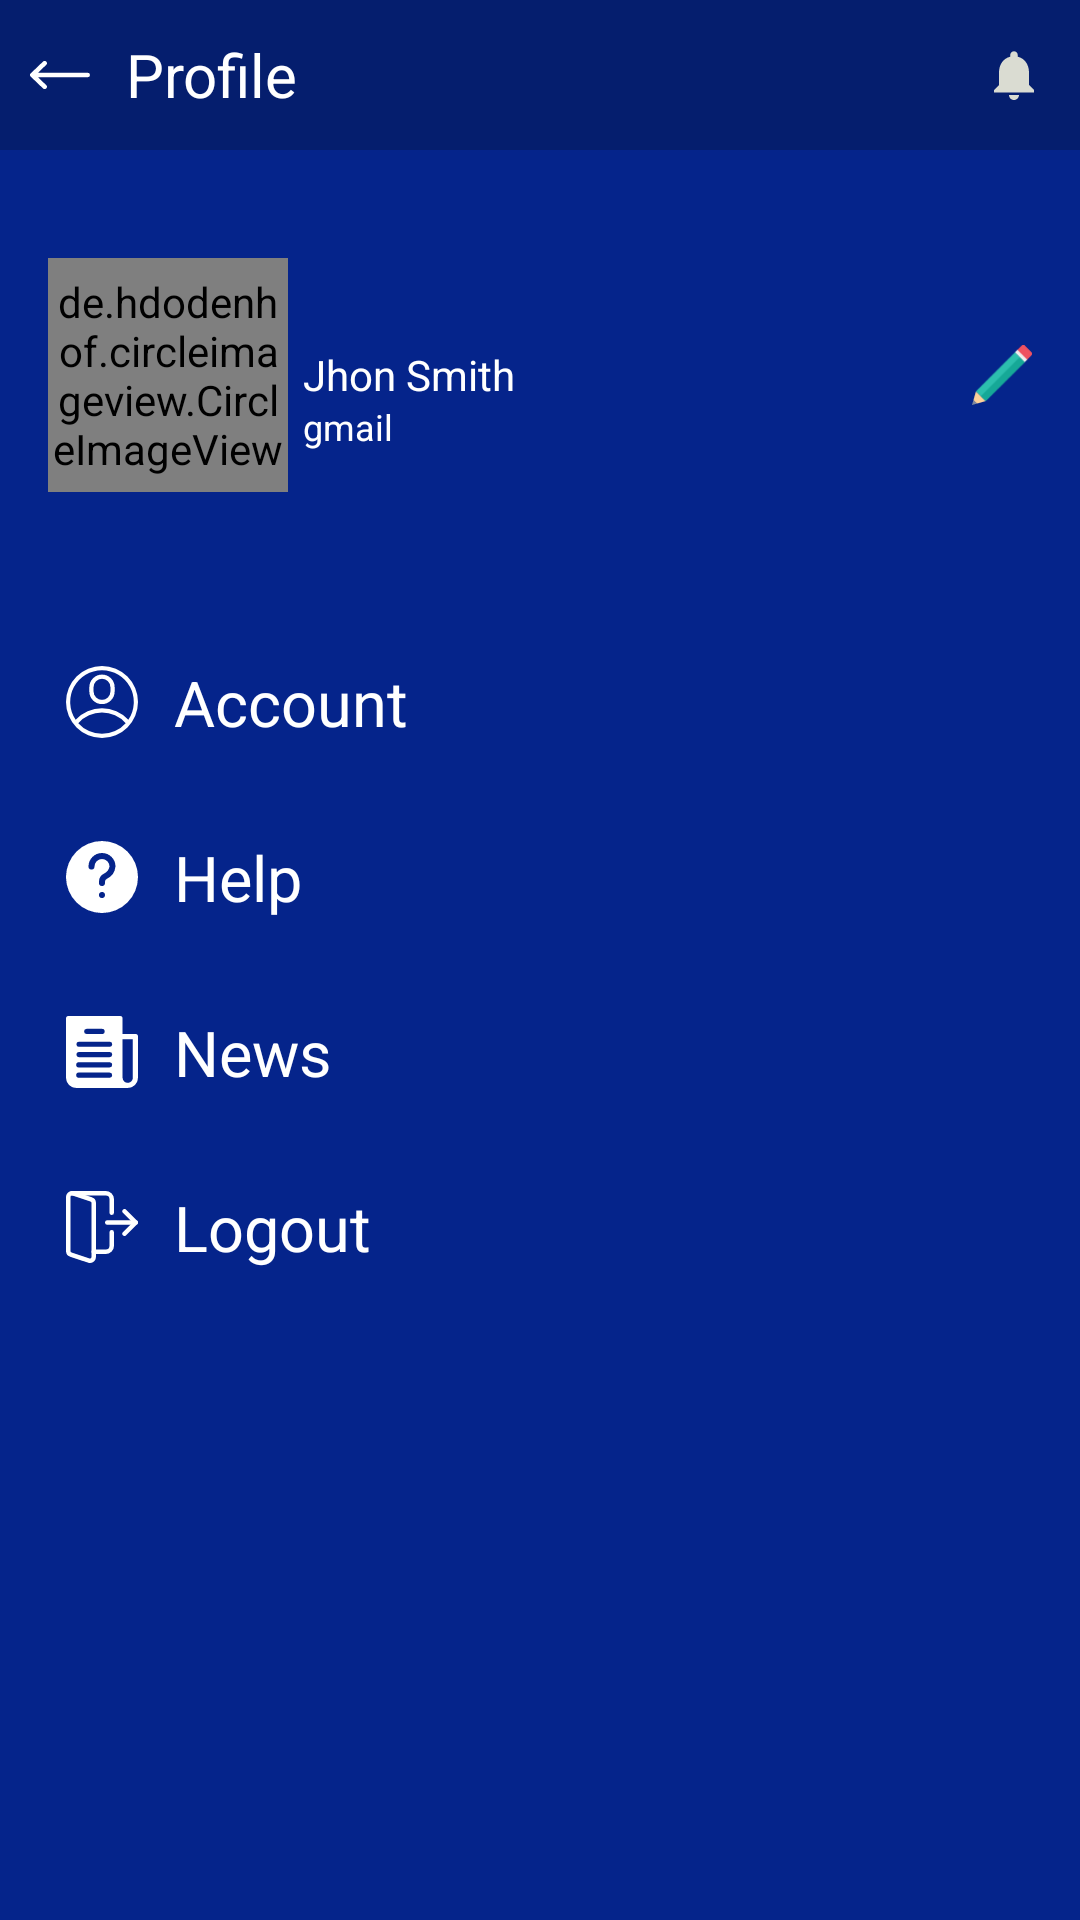

Named icons in this screenshot (1080×1920) and their centers, point (x, y):
left arrow: point (60, 75)
notifications: point (1014, 75)
pencil: point (1002, 375)
question: point (102, 877)
